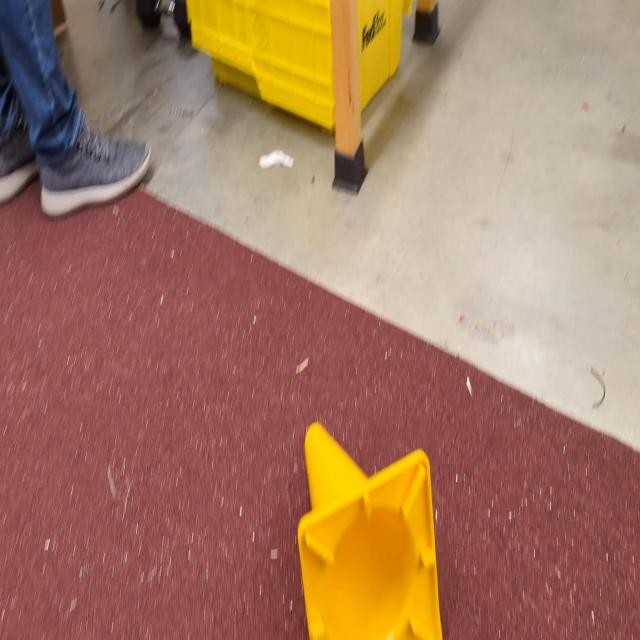frc_cone: (298, 421, 442, 637)
